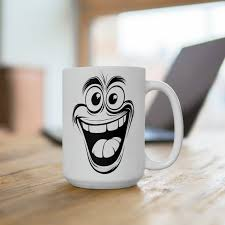mug: (54, 60, 187, 202)
